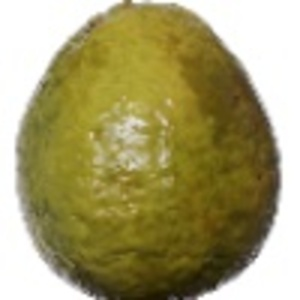goiaba: (9, 3, 283, 298)
